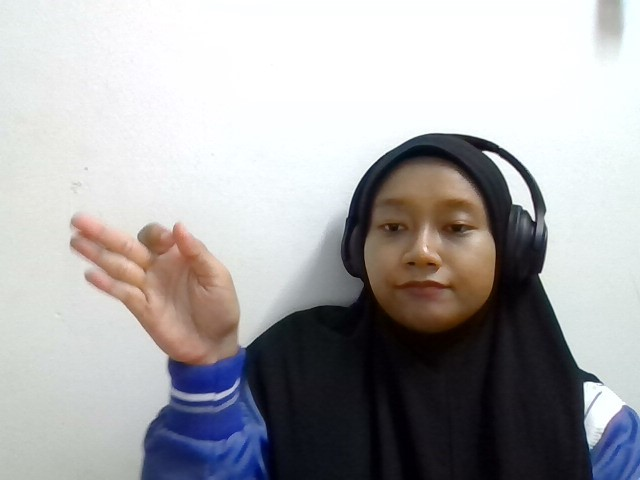Angsa: (69, 211, 242, 365)
